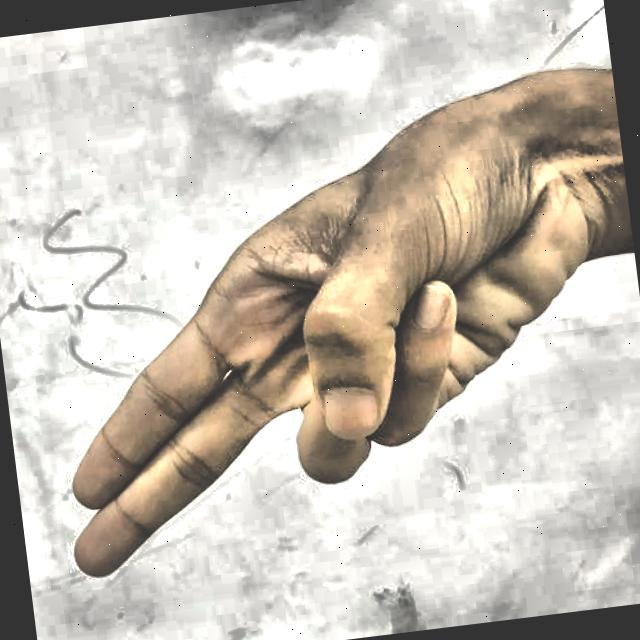Ha: (4, 75, 614, 630)
